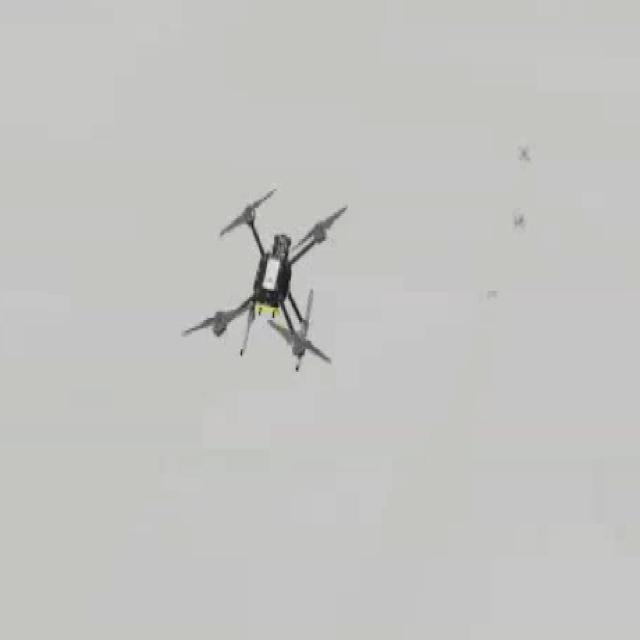drone: (180, 185, 352, 380)
